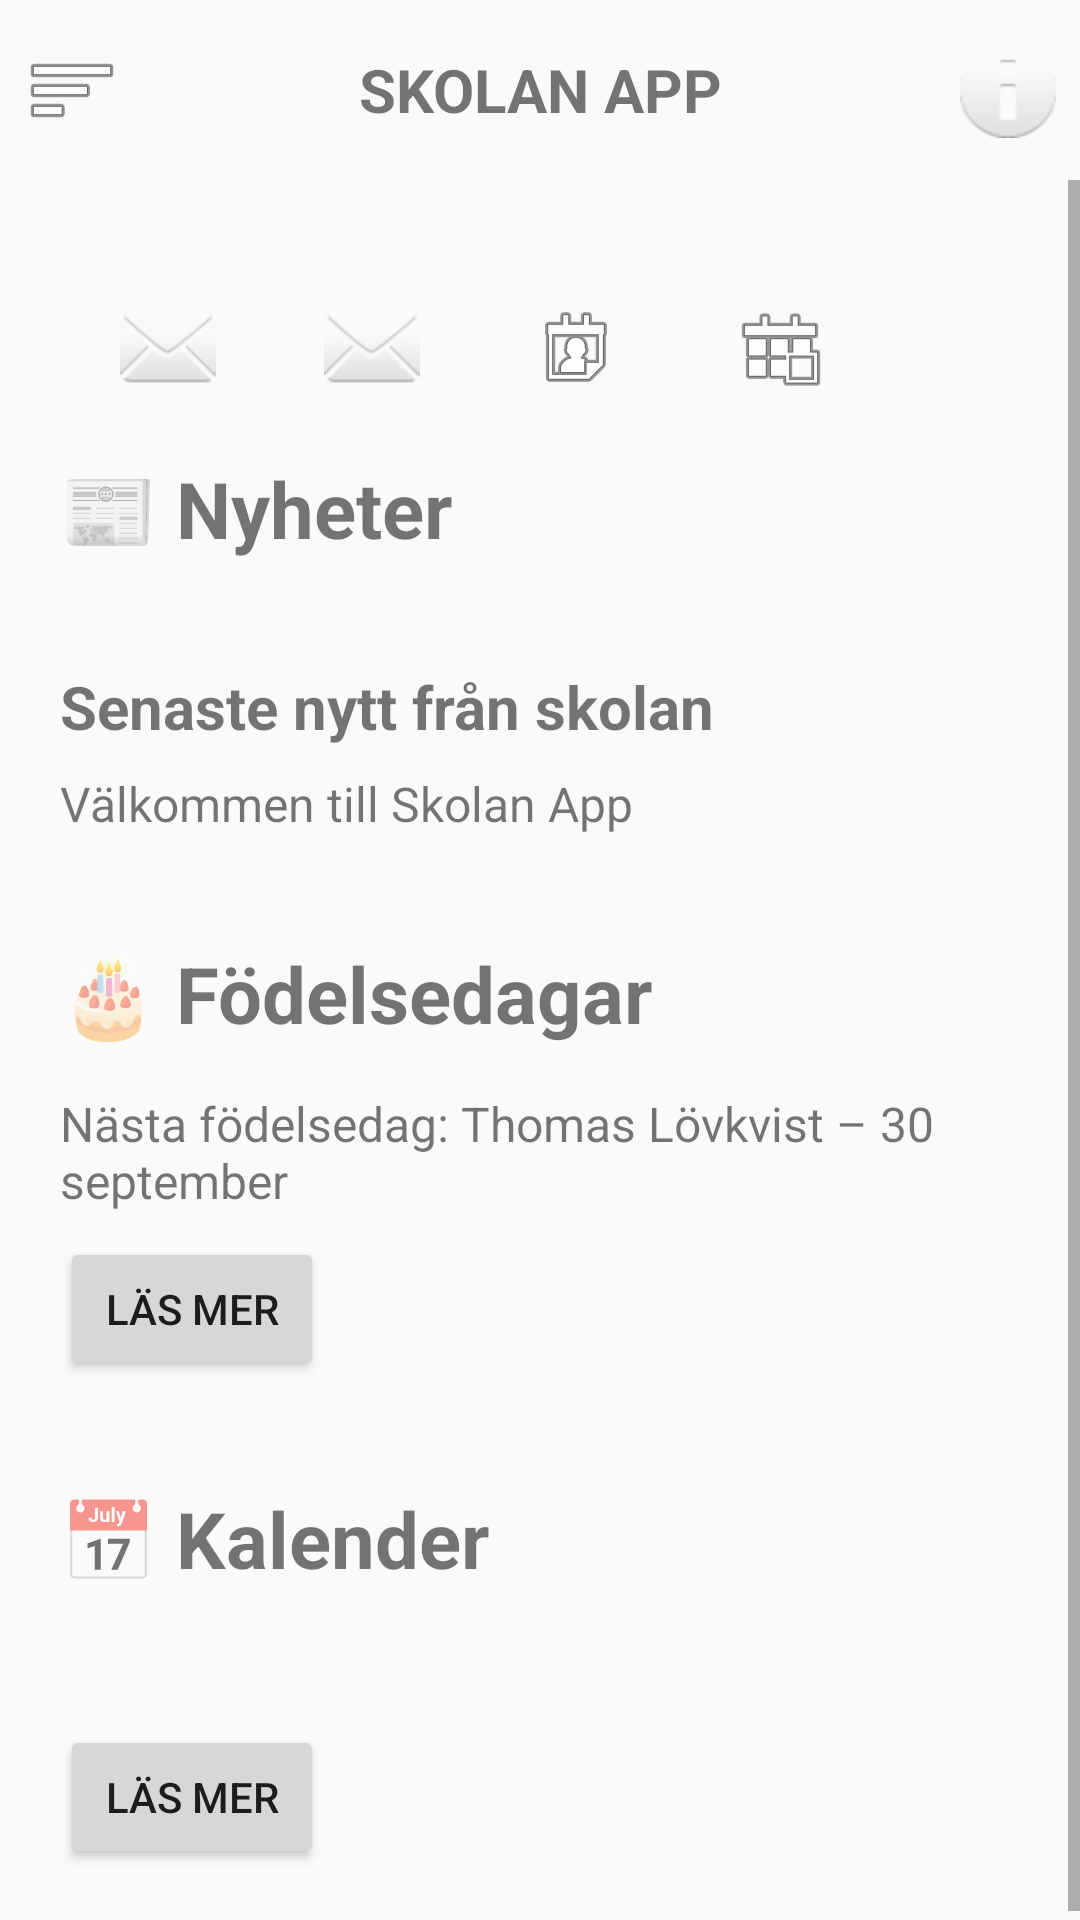

Named icons in this screenshot (1080×1920) and their centers, [x,y]:
Föräldrar email: [372,350]
Lärare email: [168,350]
Menu: [72,90]
